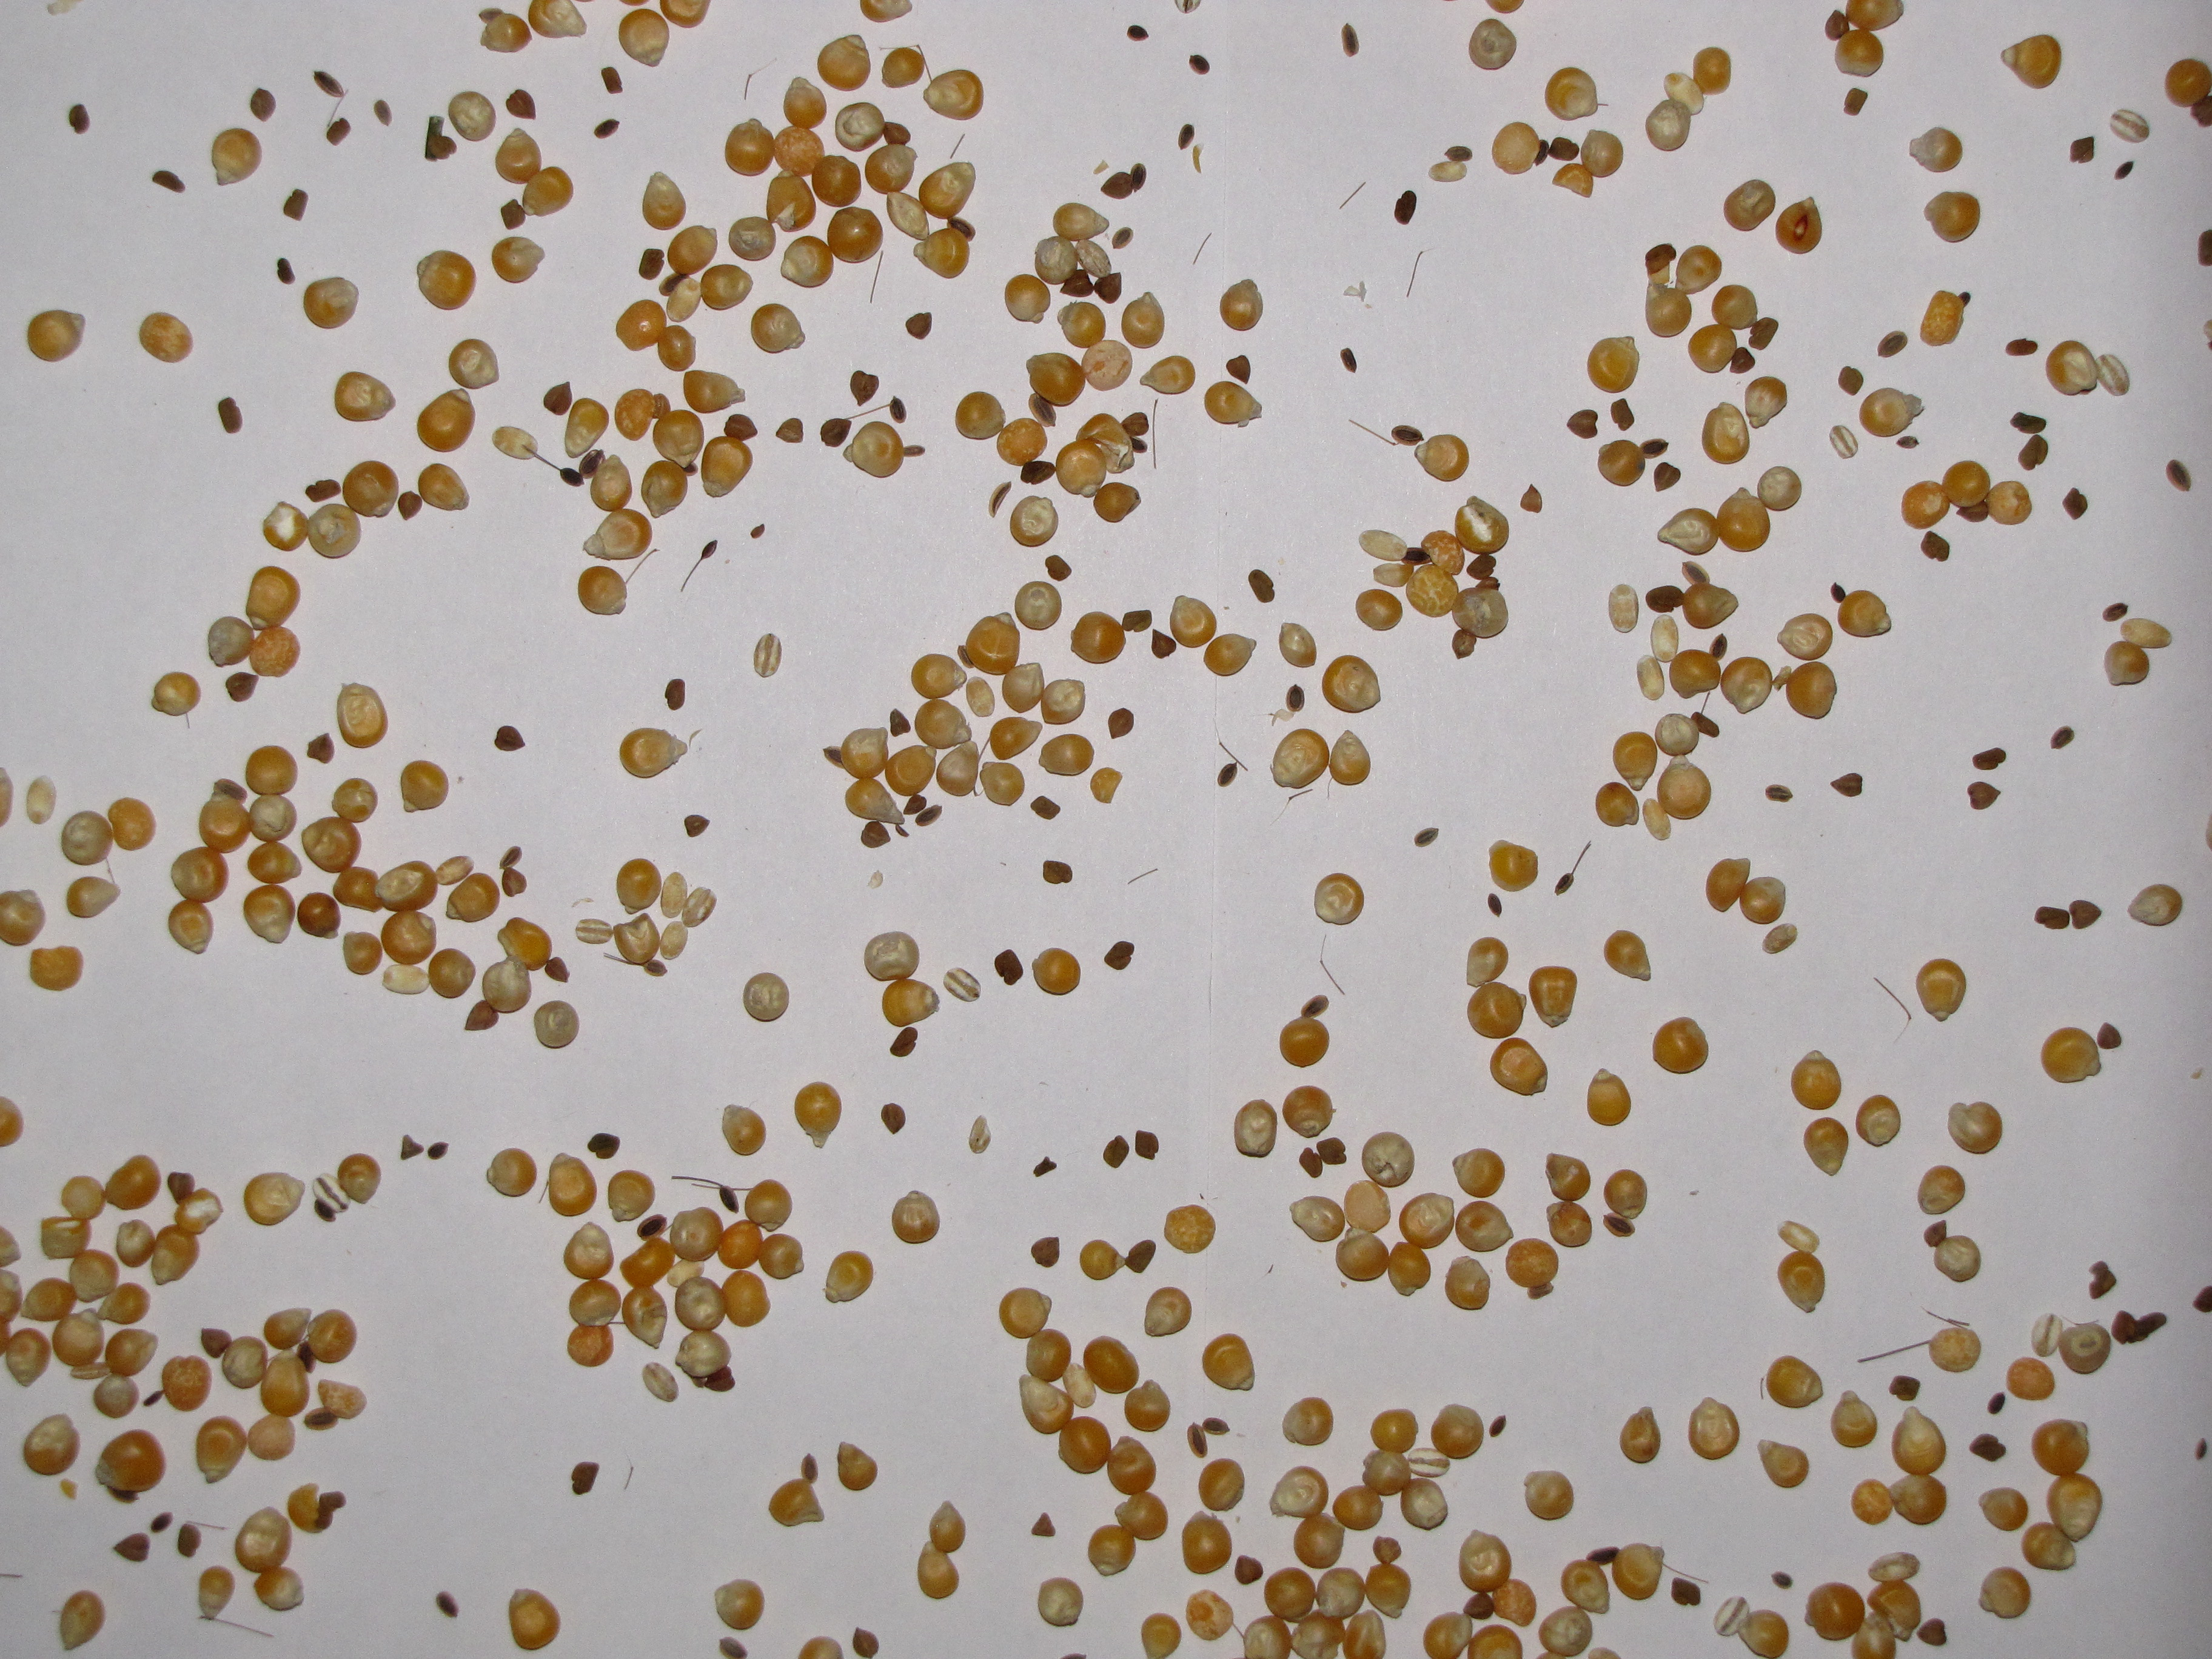mais: (578, 549, 657, 615), (820, 396, 906, 448), (1923, 1220, 1982, 1283), (1597, 439, 1669, 486), (1080, 1239, 1157, 1281), (794, 1080, 841, 1148), (1602, 1169, 1648, 1237), (1923, 192, 1980, 244), (1919, 289, 1970, 347), (1723, 179, 1777, 232), (1282, 1086, 1336, 1138), (751, 303, 806, 354), (564, 397, 610, 458), (1233, 1098, 1278, 1159), (683, 369, 745, 413), (824, 1249, 874, 1303), (446, 873, 500, 924), (1414, 434, 1470, 483), (1289, 1195, 1346, 1243), (1831, 1391, 1878, 1448), (1775, 197, 1822, 254), (1204, 382, 1263, 427), (1803, 1117, 1848, 1176), (1613, 732, 1658, 791), (1163, 1204, 1216, 1255), (714, 1579, 765, 1631), (1453, 1148, 1505, 1199), (448, 338, 500, 389), (1313, 873, 1364, 925), (892, 1190, 941, 1244), (401, 760, 449, 814), (1444, 1255, 1491, 1310), (1777, 613, 1832, 660), (617, 857, 662, 915), (643, 171, 686, 230), (1757, 1439, 1810, 1488), (1468, 17, 1517, 70), (1010, 495, 1059, 547), (1282, 1398, 1334, 1446), (1489, 840, 1538, 892), (491, 237, 545, 284), (700, 263, 754, 310), (1170, 594, 1217, 648), (1838, 591, 1892, 638), (30, 945, 84, 992), (1122, 291, 1165, 349), (1587, 1068, 1630, 1126), (1602, 931, 1651, 981), (1918, 1164, 1966, 1215), (427, 948, 475, 999), (448, 91, 496, 141), (1014, 580, 1062, 631), (486, 1148, 536, 1197), (1123, 1380, 1170, 1432), (608, 1169, 655, 1222), (1198, 1459, 1245, 1511), (1909, 127, 1963, 173), (2127, 884, 2182, 927), (1620, 1406, 1662, 1464), (1031, 948, 1082, 995), (742, 972, 789, 1023), (1144, 1286, 1191, 1337), (721, 1105, 766, 1157), (1855, 1094, 1900, 1147), (1204, 633, 1258, 676), (479, 9, 533, 52), (1038, 734, 1094, 775), (1139, 356, 1197, 396), (533, 1000, 580, 1049), (1979, 1486, 2029, 1532), (1005, 274, 1050, 324), (1038, 1577, 1083, 1628), (1219, 279, 1263, 331), (1745, 376, 1787, 429), (979, 762, 1026, 807), (836, 1441, 878, 1492), (298, 892, 341, 939), (1555, 842, 1592, 896), (1595, 782, 1639, 828), (1299, 1136, 1346, 1178), (1350, 420, 1425, 446), (681, 540, 718, 592), (1186, 1417, 1230, 1459), (1278, 622, 1317, 667), (1608, 584, 1639, 634), (1101, 164, 1146, 199), (1359, 530, 1407, 561), (425, 115, 456, 162), (500, 845, 528, 897), (752, 633, 782, 678), (1090, 767, 1123, 803), (967, 676, 995, 718), (2088, 1260, 2116, 1300), (1763, 924, 1797, 955), (850, 369, 880, 406), (2019, 434, 2048, 471), (995, 950, 1024, 985), (225, 673, 260, 702), (1970, 1434, 2006, 1462), (505, 89, 536, 120), (1921, 530, 1951, 563), (543, 382, 573, 415), (1829, 425, 1858, 458), (1103, 1134, 1130, 1169), (1966, 782, 2001, 810), (1916, 1617, 1947, 1647), (1235, 1554, 1264, 1586), (1568, 410, 1599, 439), (1031, 1237, 1061, 1269), (1247, 570, 1275, 603), (571, 1462, 599, 1495), (249, 87, 275, 122), (988, 481, 1012, 518), (218, 397, 242, 434), (1104, 941, 1134, 971), (890, 1026, 918, 1058), (852, 1628, 880, 1659), (307, 732, 334, 763), (1670, 1577, 1702, 1605), (1888, 1375, 1921, 1401), (587, 1133, 620, 1159), (1320, 960, 1345, 995), (1393, 190, 1418, 225), (2010, 411, 2047, 434), (305, 479, 341, 502), (2034, 906, 2071, 929), (1653, 462, 1681, 491), (860, 821, 890, 849), (2062, 488, 2088, 519), (1831, 772, 1862, 798), (1108, 708, 1134, 739), (639, 249, 665, 281), (284, 188, 308, 221), (152, 171, 186, 193), (1972, 748, 2006, 770), (1045, 554, 1073, 582), (1838, 366, 1864, 396), (1878, 331, 1907, 357), (495, 725, 524, 751), (1611, 399, 1635, 430), (881, 1103, 906, 1134), (326, 118, 352, 146), (1843, 87, 1869, 115), (906, 312, 932, 340), (1226, 356, 1251, 385), (1151, 629, 1176, 659), (1029, 796, 1061, 819), (775, 418, 803, 443), (2069, 136, 2094, 164), (68, 105, 91, 134), (1136, 1131, 1158, 1161), (1043, 861, 1073, 884), (1341, 23, 1360, 58), (685, 814, 711, 838), (2097, 1023, 2121, 1049), (2005, 338, 2038, 357), (665, 678, 685, 711), (601, 66, 624, 94), (1521, 484, 1543, 512), (890, 708, 911, 737), (1031, 1513, 1055, 1537), (401, 1134, 423, 1161), (914, 805, 942, 826), (925, 211, 948, 235), (594, 118, 620, 139), (1764, 784, 1792, 803), (1285, 683, 1305, 711), (1111, 227, 1134, 249), (373, 99, 392, 125), (277, 258, 296, 284), (2102, 603, 2128, 622), (1033, 1157, 1057, 1176), (1414, 828, 1439, 847), (1444, 146, 1474, 162), (1177, 124, 1195, 150), (1190, 54, 1211, 75), (427, 1141, 449, 1161), (1339, 349, 1357, 373), (1489, 1415, 1507, 1438), (1127, 24, 1148, 42), (951, 134, 965, 159), (1831, 582, 1846, 603), (1487, 894, 1501, 917), (1897, 436, 1919, 448), (1198, 234, 1212, 253), (744, 73, 752, 99), (1094, 160, 1109, 174), (751, 525, 765, 538), (660, 1227, 672, 1243), (1089, 274, 1097, 286), (1193, 251, 1200, 263), (1076, 261, 1083, 270), (1937, 1316, 1947, 1321), (1926, 1312, 1937, 1317)
